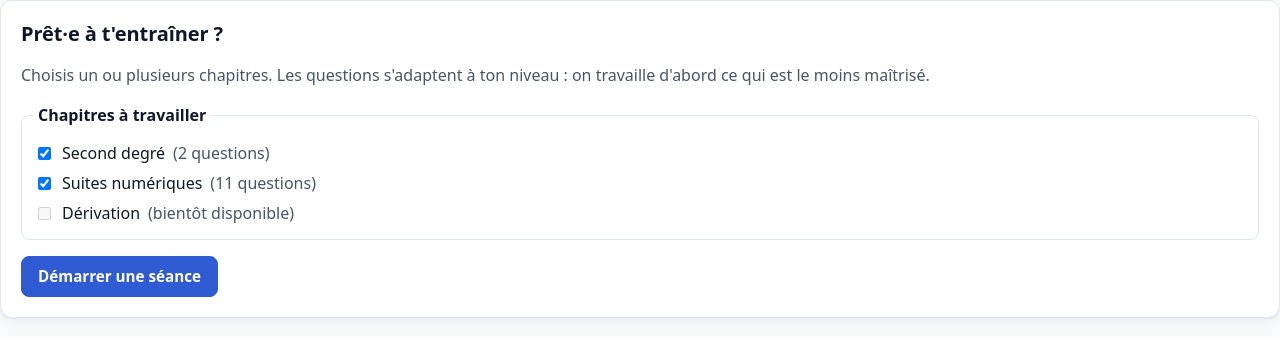
Test: élève : choix des chapitres › ne peut pas démarrer sans chapitre coché
Step 1. Click the checkbox labelled "Second degré (2 questions)" → (44,153), box 38,146 -> 51,160
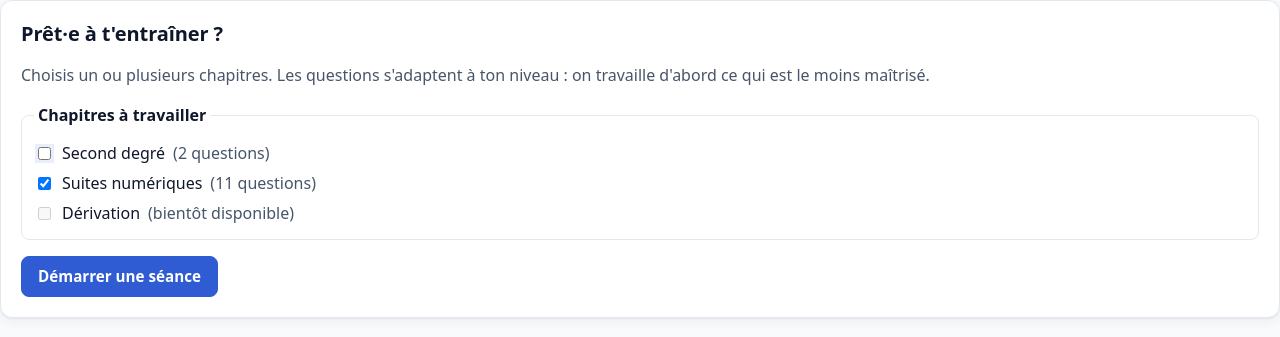
Step 2. Click the checkbox labelled "Suites numériques (11 questions)" → (44,183), box 38,176 -> 51,190
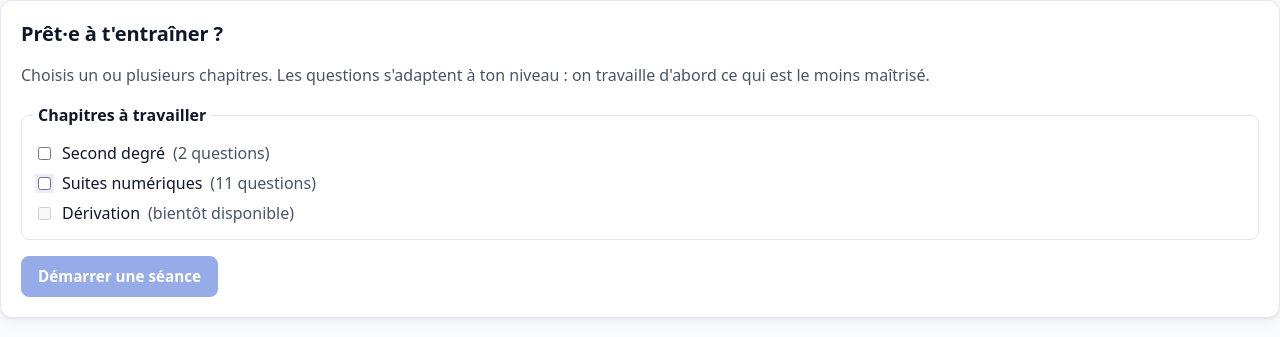
Expected: the button "Démarrer une séance" is disabled, 21,256 -> 218,297
